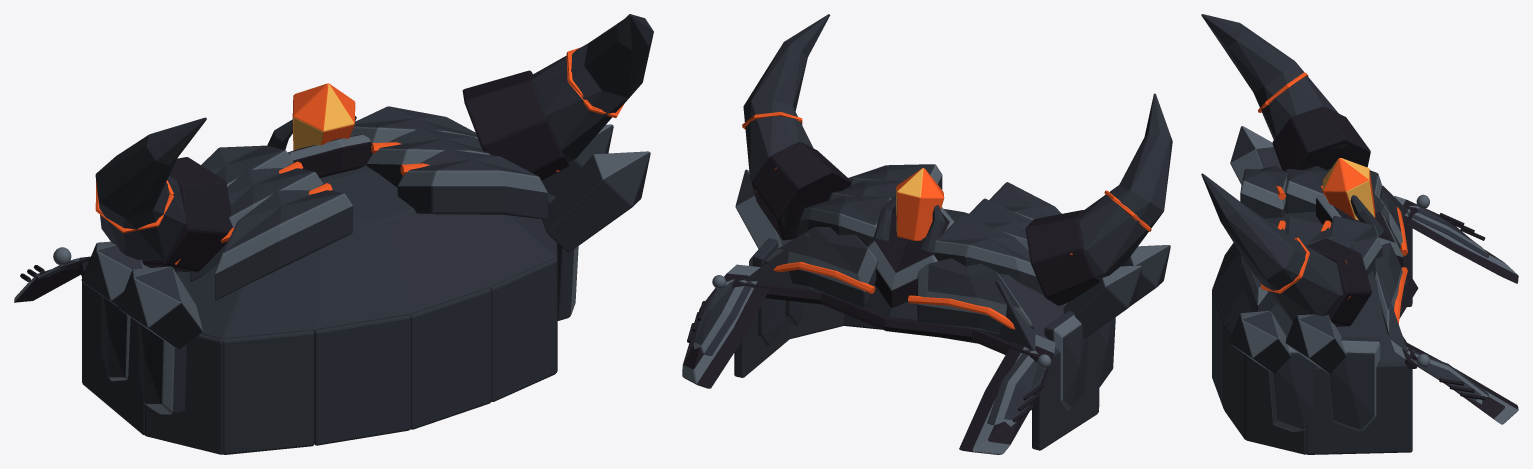
File: lava_helmet.fbx
3 renders of one model, left to right at view 1: azimuth 30°, elevation 25°; view 2: azimuth 150°, elevation 25°; view 3: azimuth 270°, elevation 25°, orthographic. The views are drawn at different scales.
Visible parts, largest first — view 1: lava_helmet_armor, lava_helmet_neon; view 2: lava_helmet_armor, lava_helmet_neon; view 3: lava_helmet_armor, lava_helmet_neon.
Boxes of the visible parts, x1,y1,x2,y2 form: lava_helmet_armor: (14,14,653,454); lava_helmet_neon: (95,47,623,264); lava_helmet_armor: (682,14,1172,454); lava_helmet_neon: (742,112,1151,329); lava_helmet_armor: (1201,14,1518,454); lava_helmet_neon: (1258,72,1407,324).
Size of the model in its own units: 5.5 by 3.59 by 3.63.
2 materials, 2 textured.
